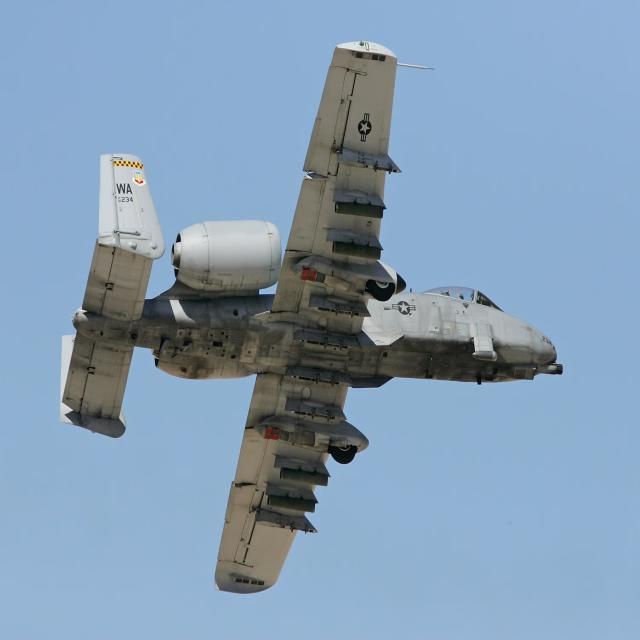A10: (32, 32, 571, 618)
